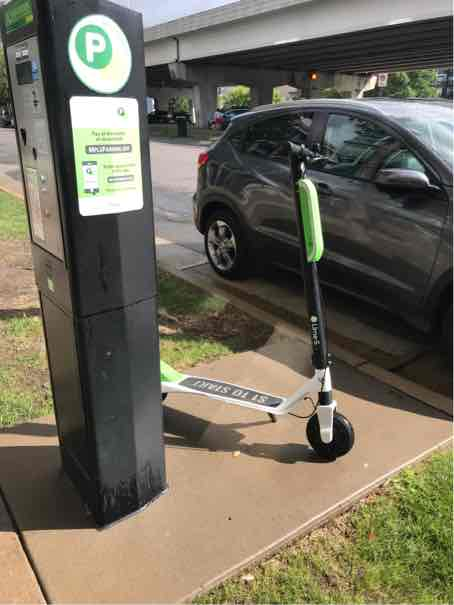scooter: (135, 135, 358, 469)
